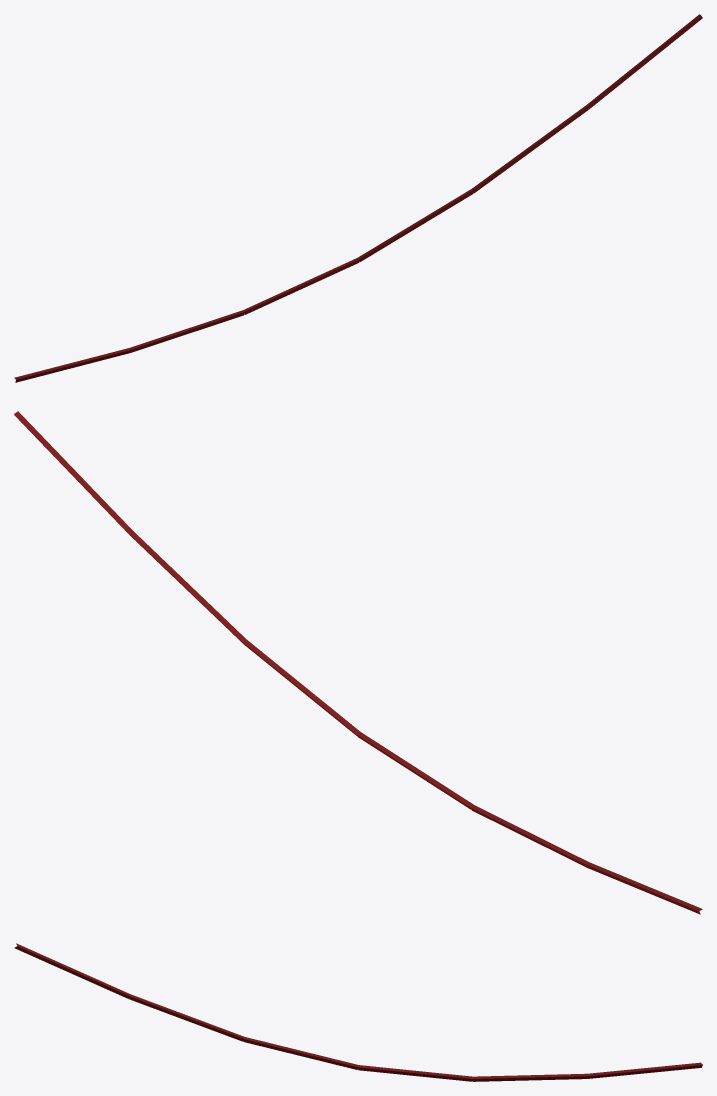
The model's file is leash_medium.glb.
3 renders of one model, top to bottom at view 1: azimuth 90°, elevation 25°; view 2: azimuth 210°, elevation 25°; view 3: azimuth 270°, elevation 25°, orthographic. The views are drawn at different scales.
Parts seen in each view (by area): view 1: leash_medium; view 2: leash_medium; view 3: leash_medium.
Boxes of the visible parts, x1,y1,x2,y2 form: leash_medium: (14,14,702,382); leash_medium: (14,411,702,914); leash_medium: (14,943,702,1081).
Size of the model in its own units: 0.3865 by 0.3563 by 0.9038.
